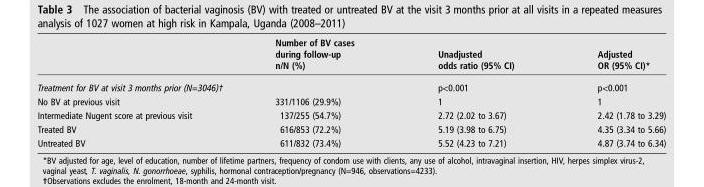table: (36, 36, 665, 148)
table column: (36, 36, 232, 148), (232, 36, 395, 148), (395, 36, 555, 148), (555, 36, 665, 148)
table column header: (36, 36, 665, 75)
table row: (36, 36, 665, 75), (36, 75, 665, 94), (36, 107, 665, 121), (36, 121, 665, 135), (36, 94, 665, 107), (36, 135, 665, 148)
table spanning cell: (36, 75, 395, 94)
